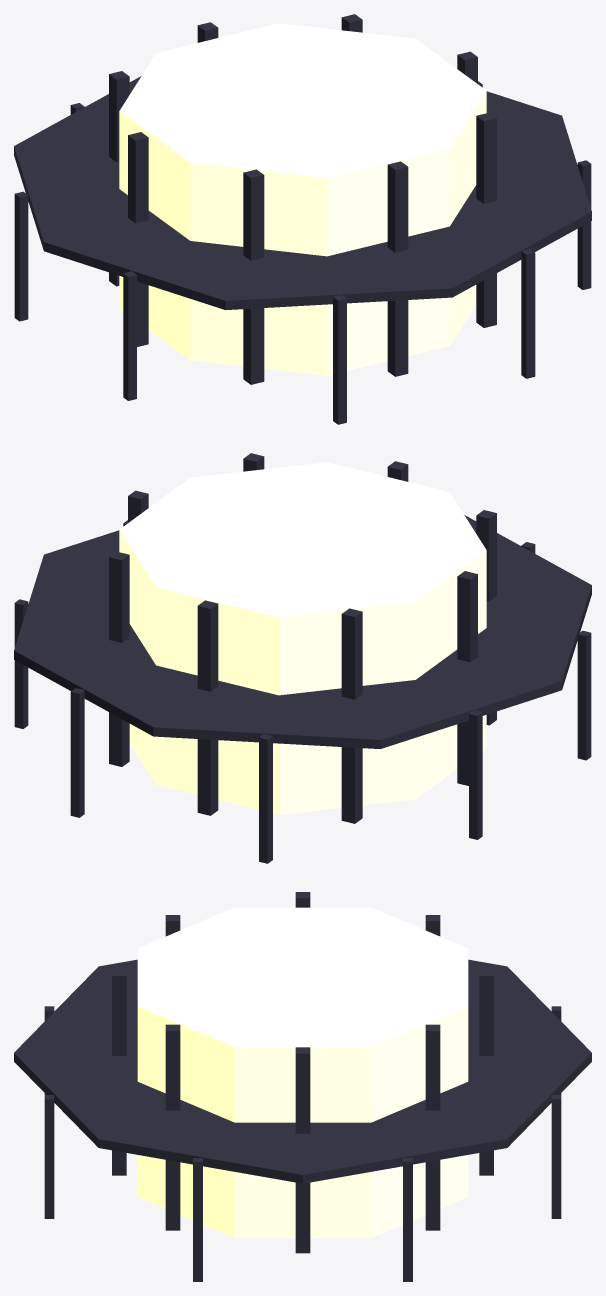
File: beacon_lit.glb
3 views of the same model, one above another, from view 1: azimuth 30°, elevation 25°; view 2: azimuth 150°, elevation 25°; view 3: azimuth 270°, elevation 25° (orthographic). The views are drawn at different scales.
Parts seen in each view (by area): view 1: kindle_glow, ink_l10; view 2: kindle_glow, ink_l10; view 3: kindle_glow, ink_l10.
Boxes of the visible parts, x1,y1,x2,y2 form: kindle_glow: [119, 23, 486, 375]; ink_l10: [14, 14, 591, 424]; kindle_glow: [119, 462, 486, 814]; ink_l10: [14, 453, 591, 863]; kindle_glow: [137, 907, 468, 1237]; ink_l10: [14, 892, 591, 1281].
Bounding box in the file's own units: 2.36 × 0.9 × 2.36.
